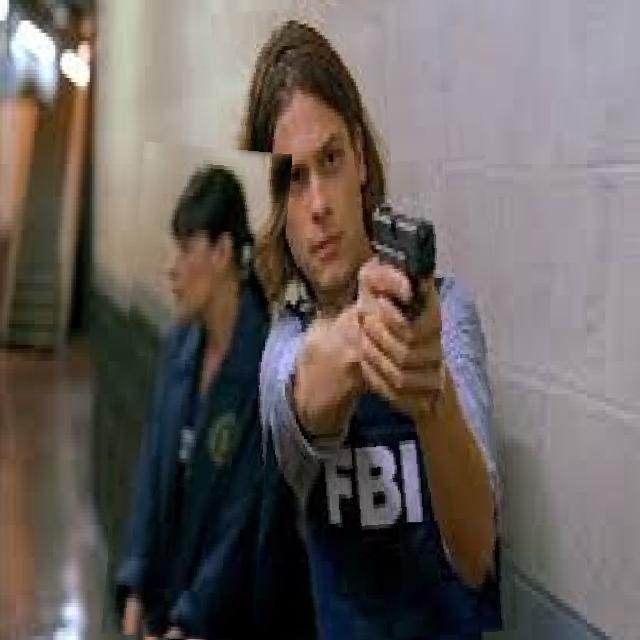Gun_Holder: (314, 206, 454, 391)
Person: (237, 24, 533, 610), (112, 172, 308, 603)
